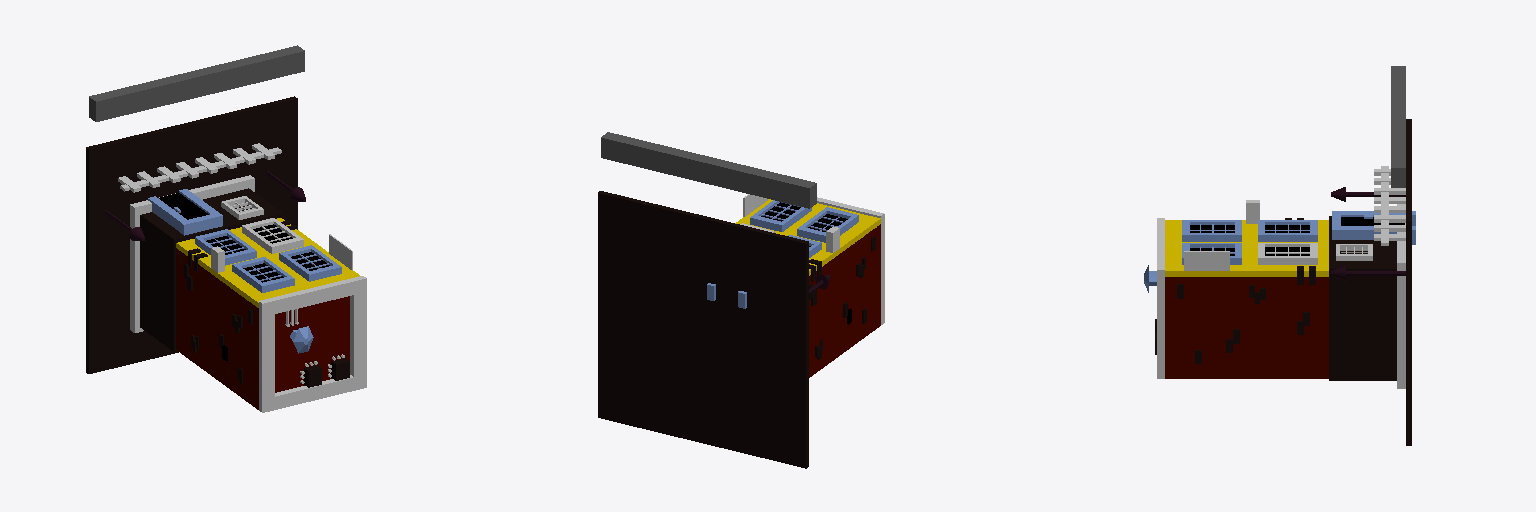
Rendered from building.obj.
The picture shows the model from 3 angles: view 1: azimuth 30°, elevation 25°; view 2: azimuth 150°, elevation 25°; view 3: azimuth 270°, elevation 25°; orthographic projection.
Visible parts, largest first — view 1: Cube.465_Cube.474, Cube.462_Cube.471, Cube.467_Cube.476, Cube.475_Cube.484, Cube.466_Cube.475, Cube.480_Cube.489, Cube.481_Cube.490, Cube.474_Cube.483, Cube.482_Cube.491, Cube.468_Cube.477, Cube.469_Cube.478, Cube.472_Cube.481 (+3 smaller); view 2: Cube.465_Cube.474, Cube.462_Cube.471, Cube.475_Cube.484, Cube.480_Cube.489, Cube.469_Cube.478, Cube.468_Cube.477, Cube.467_Cube.476; view 3: Cube.462_Cube.471, Cube.466_Cube.475, Cube.480_Cube.489, Cube.465_Cube.474, Cube.475_Cube.484, Cube.474_Cube.483, Cube.481_Cube.490, Cube.467_Cube.476, Cube.482_Cube.491, Cube.469_Cube.478, Cube.473_Cube.482, Cube.472_Cube.481 (+3 smaller).
Boxes of the visible parts, x1,y1,x2,y2 form: Cube.465_Cube.474: [86, 96, 297, 373]; Cube.462_Cube.471: [176, 248, 349, 409]; Cube.467_Cube.476: [259, 276, 366, 412]; Cube.475_Cube.484: [89, 45, 304, 121]; Cube.466_Cube.475: [140, 188, 282, 351]; Cube.480_Cube.489: [176, 218, 359, 307]; Cube.481_Cube.490: [130, 175, 254, 332]; Cube.474_Cube.483: [118, 143, 281, 192]; Cube.482_Cube.491: [148, 189, 222, 235]; Cube.468_Cube.477: [279, 245, 341, 281]; Cube.469_Cube.478: [232, 257, 294, 292]; Cube.472_Cube.481: [242, 218, 303, 253]; Cube.465_Cube.474: [598, 191, 808, 468]; Cube.462_Cube.471: [809, 224, 880, 377]; Cube.475_Cube.484: [601, 132, 816, 208]; Cube.480_Cube.489: [735, 199, 880, 275]; Cube.469_Cube.478: [797, 207, 858, 242]; Cube.468_Cube.477: [750, 200, 811, 231]; Cube.467_Cube.476: [817, 197, 884, 324]; Cube.462_Cube.471: [1165, 277, 1328, 378]; Cube.466_Cube.475: [1329, 216, 1396, 380]; Cube.480_Cube.489: [1165, 220, 1328, 276]; Cube.465_Cube.474: [1406, 119, 1411, 445]; Cube.475_Cube.484: [1391, 66, 1405, 187]; Cube.474_Cube.483: [1374, 166, 1405, 245]; Cube.481_Cube.490: [1397, 204, 1405, 388]; Cube.467_Cube.476: [1157, 218, 1164, 378]; Cube.482_Cube.491: [1332, 211, 1415, 244]; Cube.469_Cube.478: [1182, 220, 1241, 241]; Cube.473_Cube.482: [1258, 220, 1317, 241]; Cube.472_Cube.481: [1258, 243, 1317, 264].
Bounding box in the file's own units: 40.04 × 50.9 × 45.19.